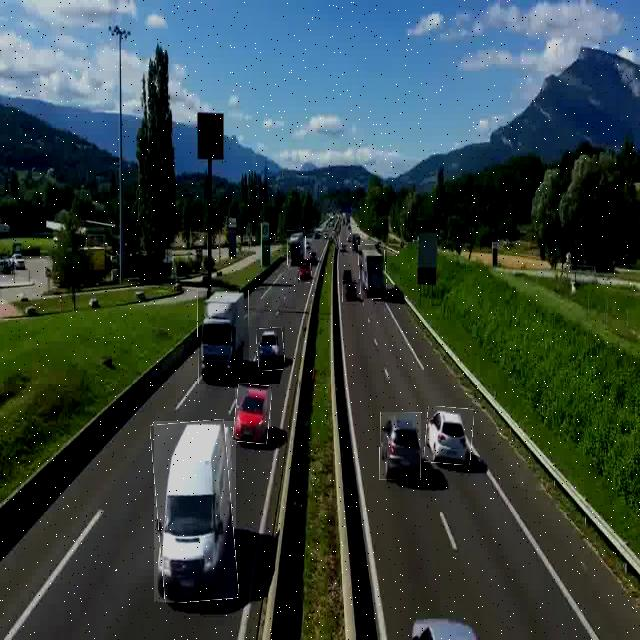Car: (154, 421, 236, 602), (380, 412, 421, 480), (425, 407, 473, 464), (235, 384, 271, 444), (257, 327, 285, 371), (342, 280, 359, 302), (298, 259, 312, 283)
Truck: (198, 290, 249, 384), (359, 244, 387, 299), (288, 230, 306, 270)
